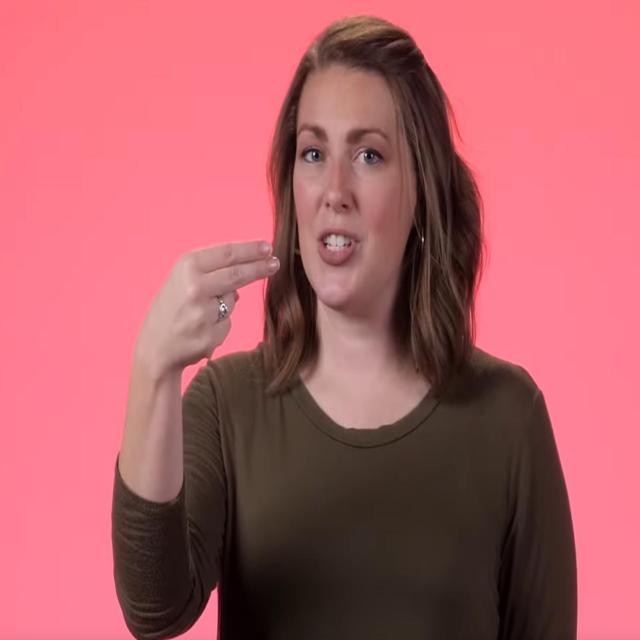H: (130, 237, 284, 368)
